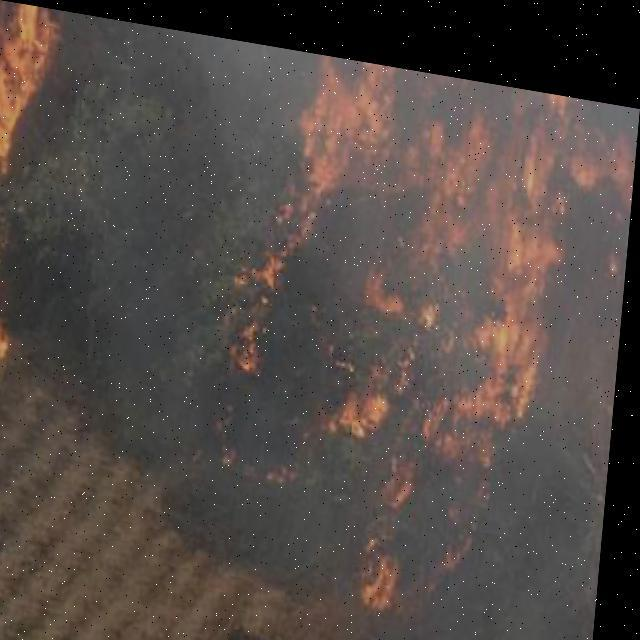Fire: (0, 0, 639, 623)
